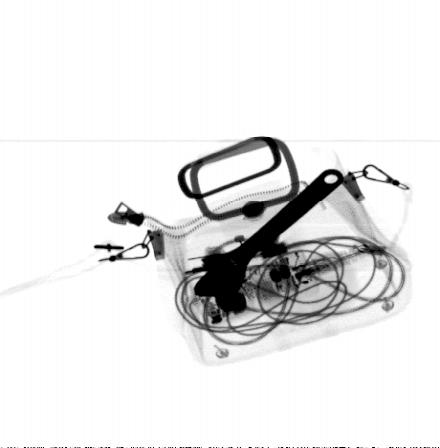Wrench: (193, 168, 346, 298)
